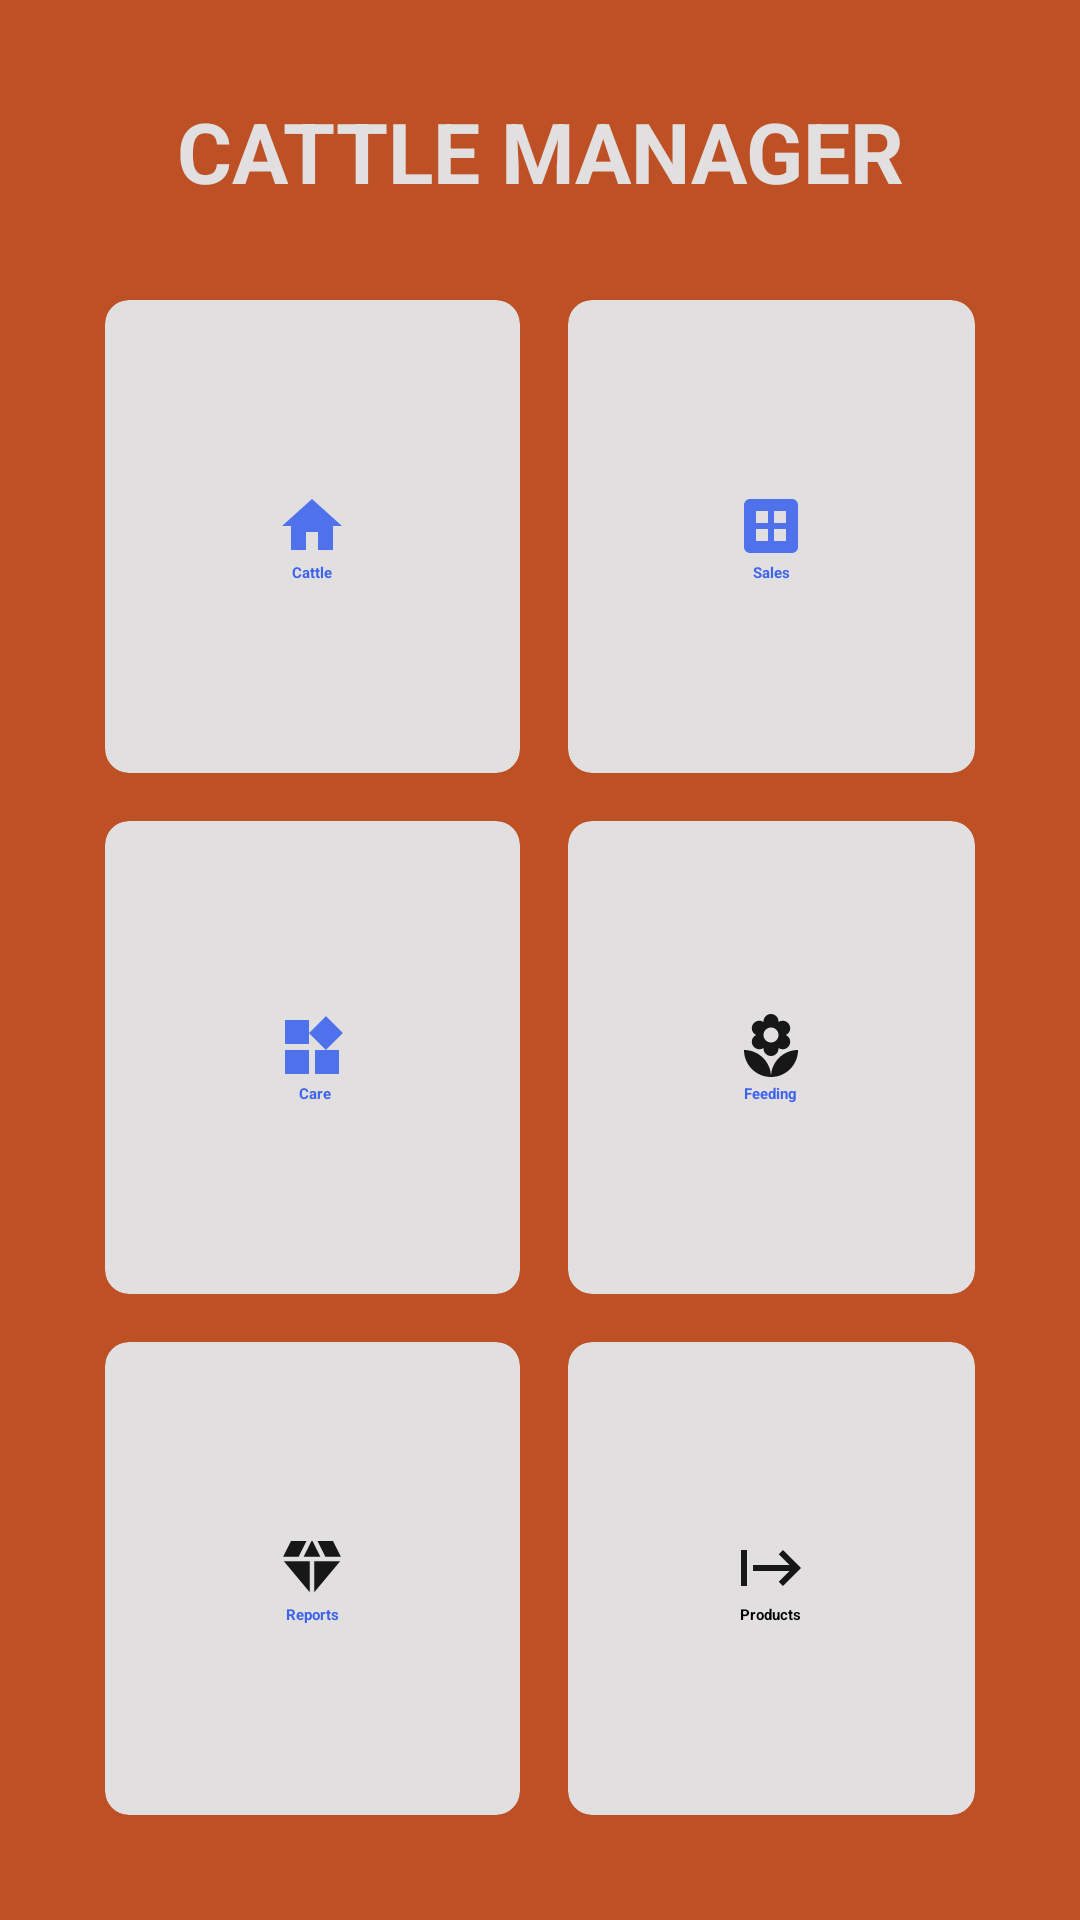

Icon click points for this 1080w x 1920h phone screenshot, format (x,y):
home: (312,524)
